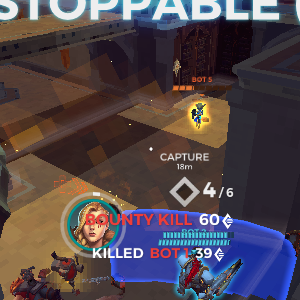model: (189, 100, 209, 126)
